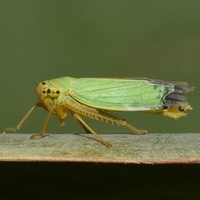insect: (3, 77, 194, 147)
